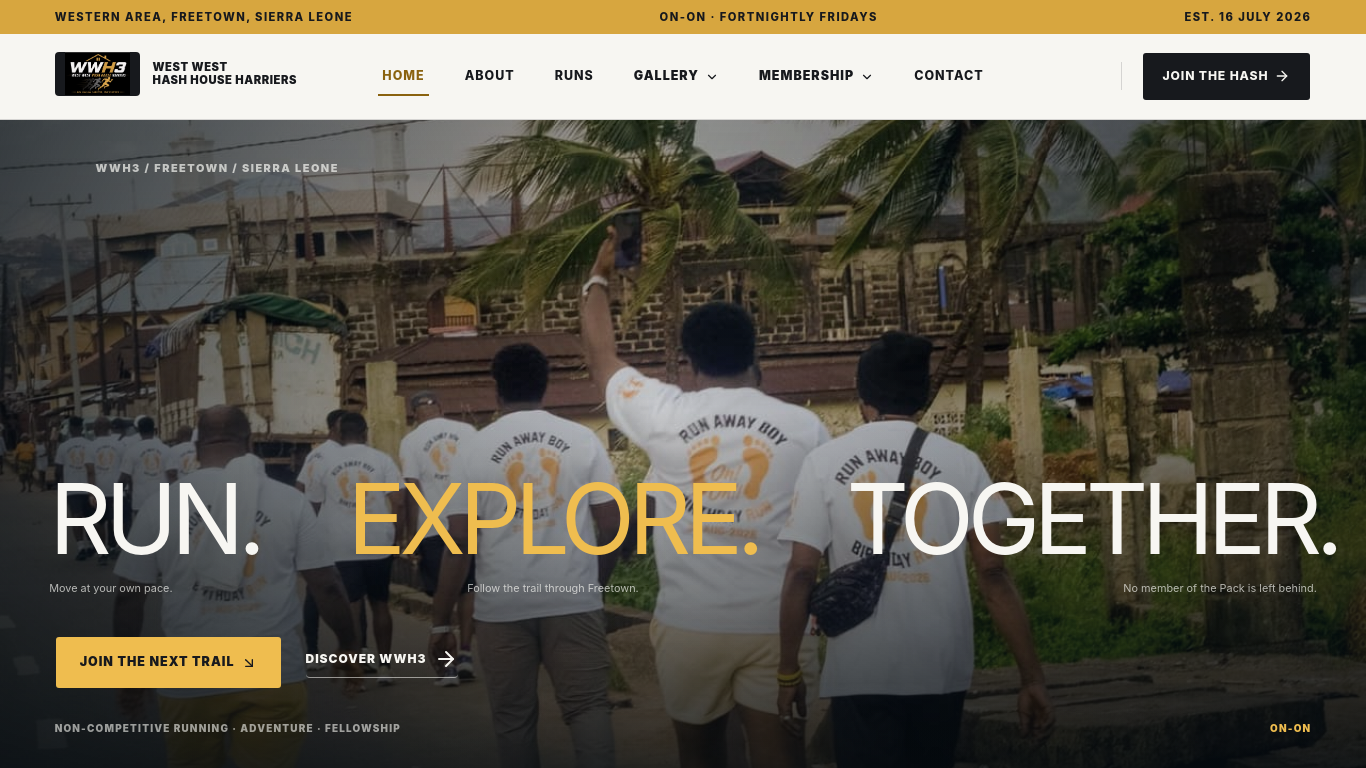
Gallery dropdown › offers every child page as a real link
Step 1. Click the button "Gallery" → (676, 76), box [630,59,723,94]
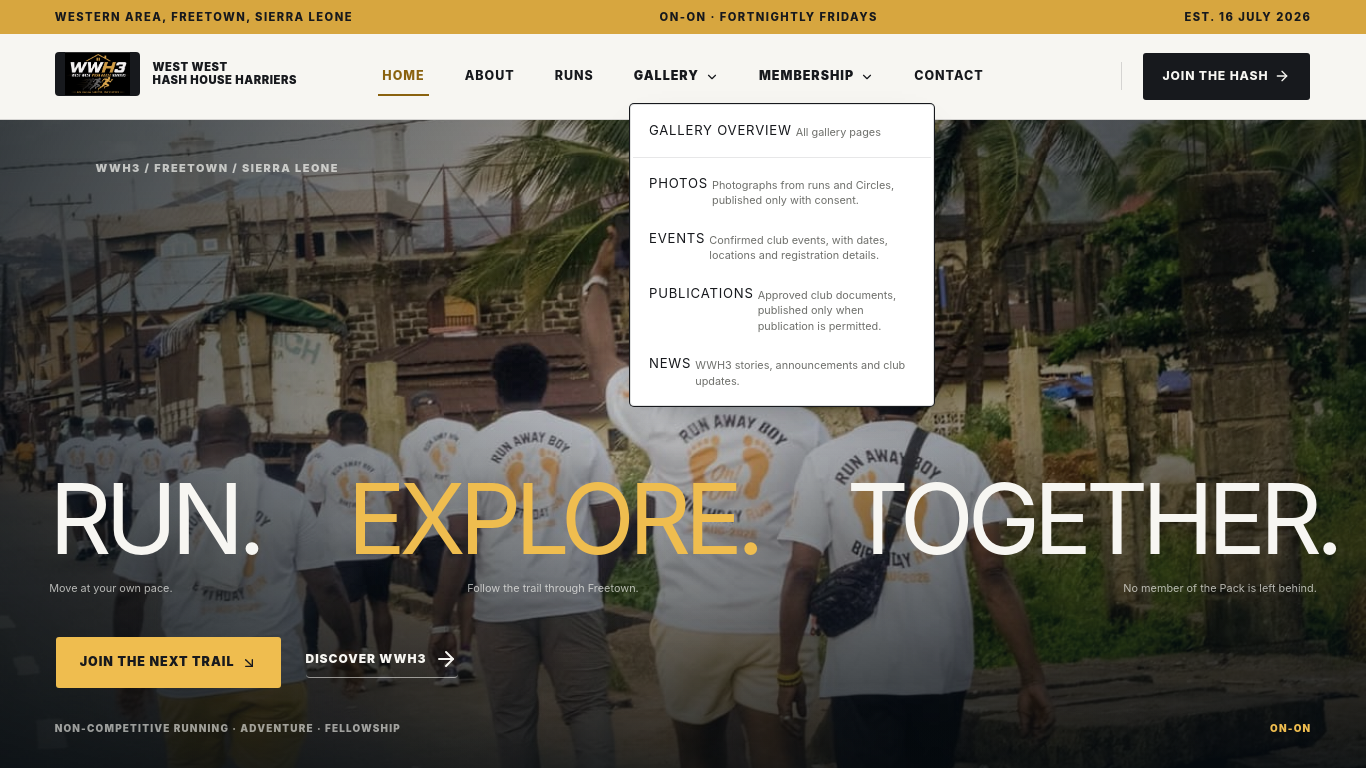
Check: the number of menu items is 5, box [649,122,881,139]; [649,174,894,207]; [649,230,888,262]; [637,274,927,344]; [649,355,905,388]
Check: the menu item that starts with "Photos" is shown, box [649,174,894,207]
Check: the menu item that starts with "Events" is shown, box [649,230,888,262]
